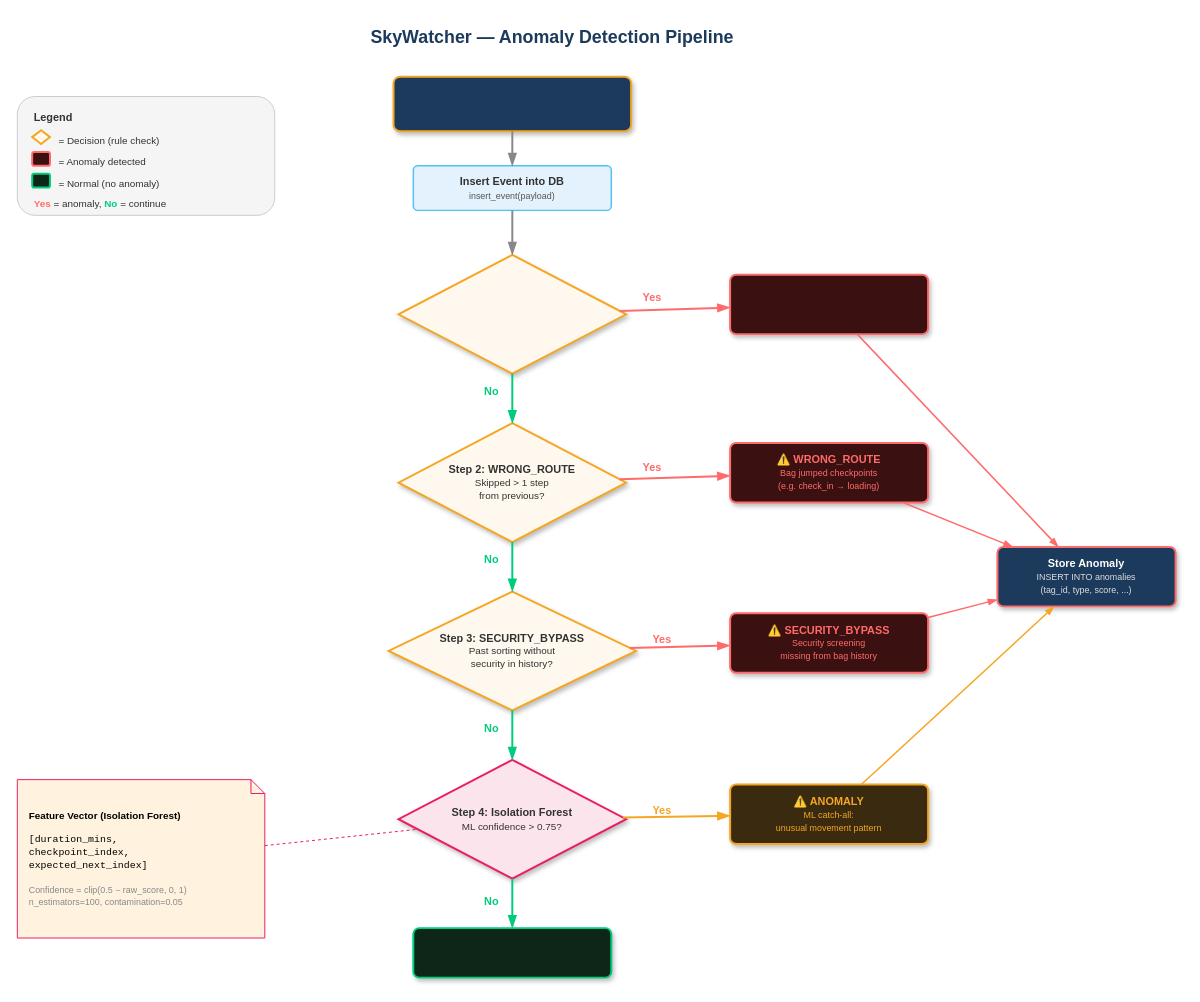
Some shapes in this 1200 by 1002 pixel diagram are drawn without their labels. The centre of each missing label's shape, as x and y in pixels:
"Incoming MQTT Event baggage/events topic" belongs at point 513,105.
"Step 1: STALL Check duration_mins ≥ 20?" belongs at point 513,315.
"⚠️ STALL Anomaly Bag stalled at checkpoint for > threshold minutes" belongs at point 830,305.
"✅ Normal Event No anomaly detected" belongs at point 513,954.
